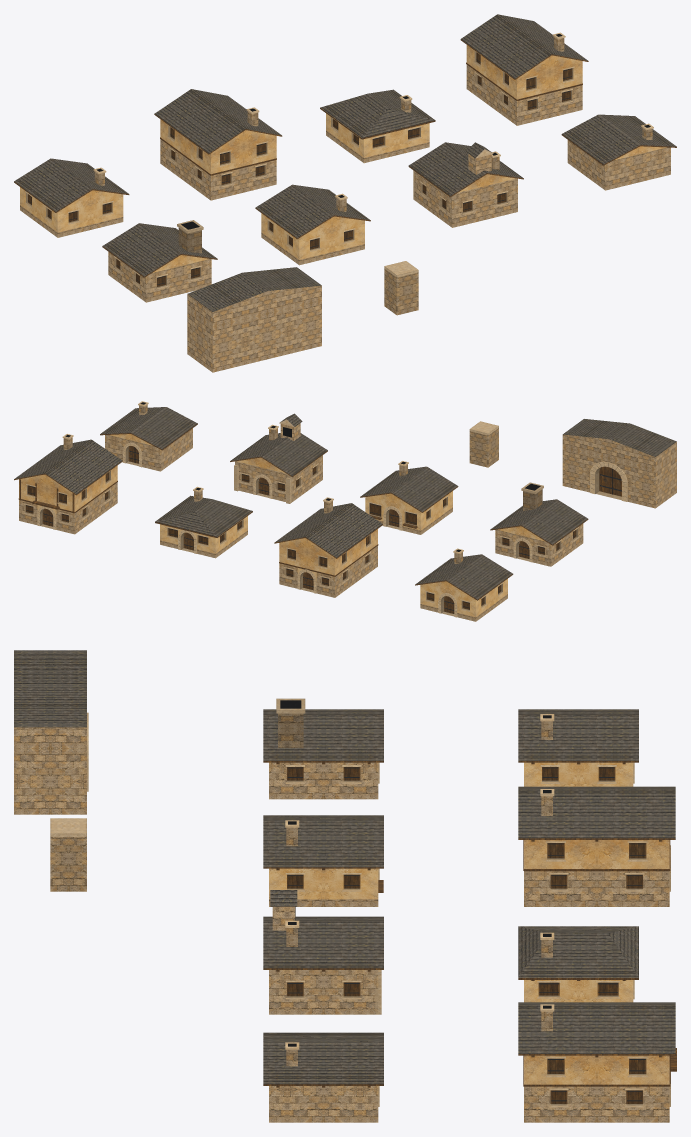
File: sanctuary-city.glb
3 renders of one model, top to bottom at view 1: azimuth 30°, elevation 25°; view 2: azimuth 150°, elevation 25°; view 3: azimuth 270°, elevation 25°, orthographic. The views are drawn at different scales.
Parts seen in each view (by area): view 1: city-gate, tall-house, inn, sanctuary, provisioner, dungeon-entrance, low-house, smithy, low-house-hip, boundary-wall-part-1, smithy-part-1, tall-house-part-1 (+2 smaller); view 2: city-gate, inn, tall-house, sanctuary, low-house, dungeon-entrance, smithy, provisioner, low-house-hip, boundary-wall-part-1, smithy-part-1, inn-part-1 (+7 smaller); view 3: inn, tall-house, city-gate, sanctuary, dungeon-entrance, provisioner, smithy, low-house, low-house-hip, boundary-wall-part-1, smithy-part-1, inn-part-1 (+5 smaller).
Boxes of the visible parts, x1,y1,x2,y2 form: city-gate: (187,267,321,372); tall-house: (154,89,282,200); inn: (460,14,588,125); sanctuary: (408,142,523,227); provisioner: (255,184,370,265); dungeon-entrance: (561,114,676,190); low-house: (14,158,129,237); smithy: (102,223,217,302); low-house-hip: (320,89,435,163); boundary-wall-part-1: (384,261,418,315); smithy-part-1: (114,220,203,287); tall-house-part-1: (168,108,267,185); city-gate: (562,419,676,508); inn: (14,434,122,534); tall-house: (274,497,382,597); sanctuary: (230,413,327,503); low-house: (415,548,513,621); dungeon-entrance: (100,401,197,471); smithy: (490,487,588,566); provisioner: (360,461,458,534); low-house-hip: (155,486,252,558); boundary-wall-part-1: (469,421,498,467); smithy-part-1: (501,482,577,561); inn-part-1: (20,434,110,528); inn: (518,1002,676,1122); tall-house: (518,786,675,906); city-gate: (14,650,88,814); sanctuary: (263,890,383,1014); dungeon-entrance: (263,1032,383,1122); provisioner: (263,815,383,906); smithy: (263,709,383,799); low-house: (518,709,638,786); low-house-hip: (518,926,638,1002); boundary-wall-part-1: (50,818,86,891); smithy-part-1: (276,698,360,781); inn-part-1: (541,1005,646,1105).
Size of the model in its own units: 25.18 by 3.17 by 18.2.
Materials: 2 (2 with a texture image).
